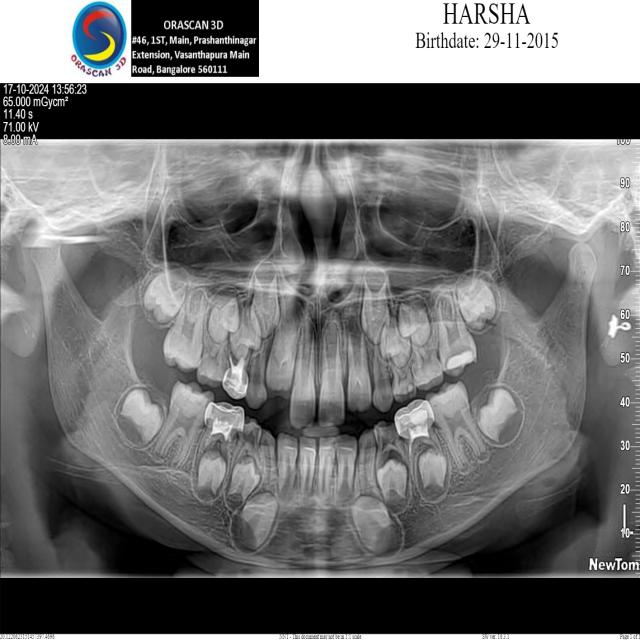Premolars: (370, 420, 412, 480), (355, 430, 378, 509)
